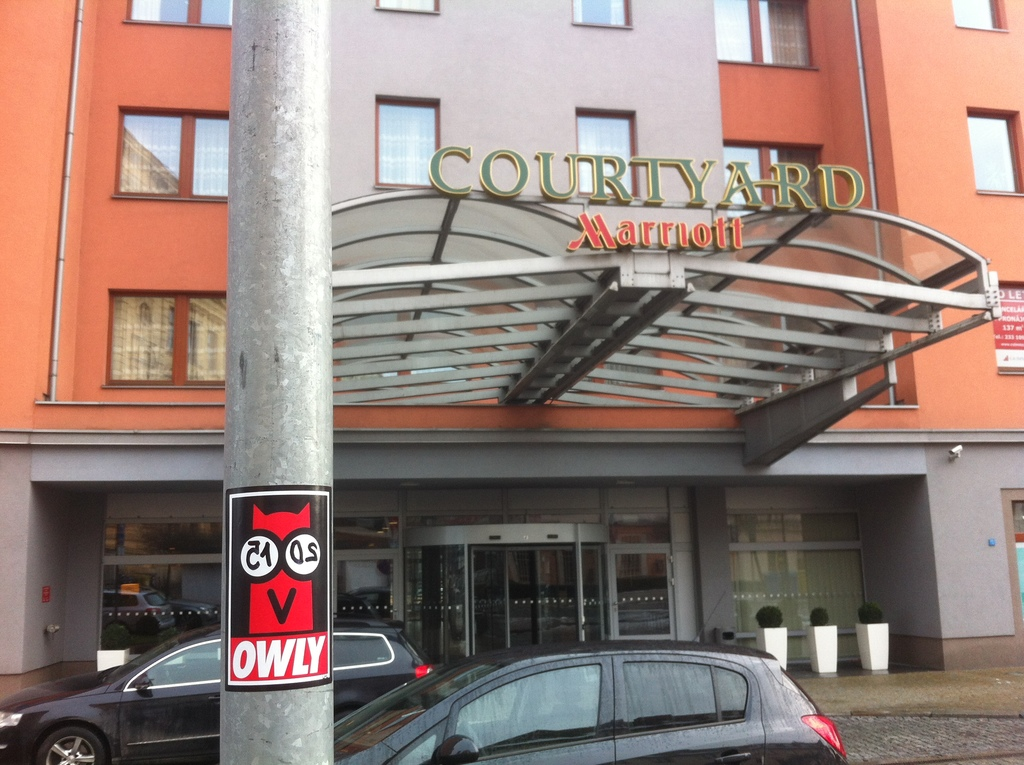Car: (337, 636, 849, 764), (0, 618, 436, 764)
